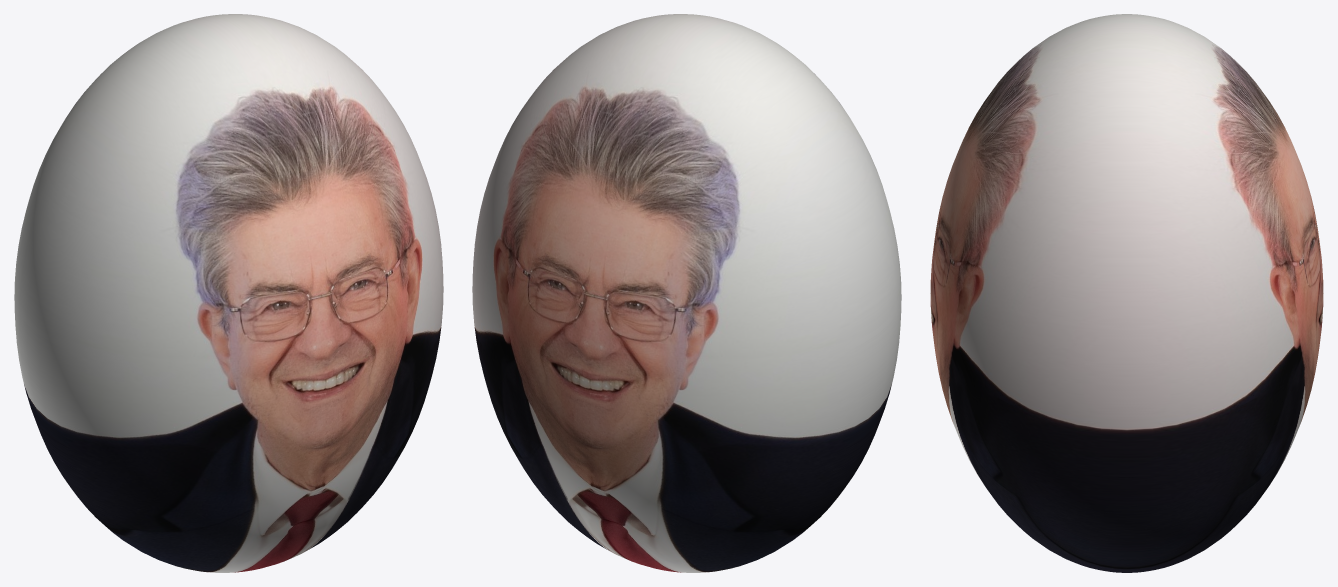
3 renders of one model, left to right at view 1: azimuth 30°, elevation 25°; view 2: azimuth 150°, elevation 25°; view 3: azimuth 270°, elevation 25°, orthographic.
Visible parts, largest first — view 1: head; view 2: head; view 3: head.
Boxes of the visible parts, left/top/right/bottom form: head: left=14, top=14, right=443, bottom=572; head: left=472, top=14, right=901, bottom=572; head: left=930, top=14, right=1323, bottom=572.
Bounding box in the file's own units: 1.5 × 2 × 1.35.
Materials: 1 (1 with a texture image).
